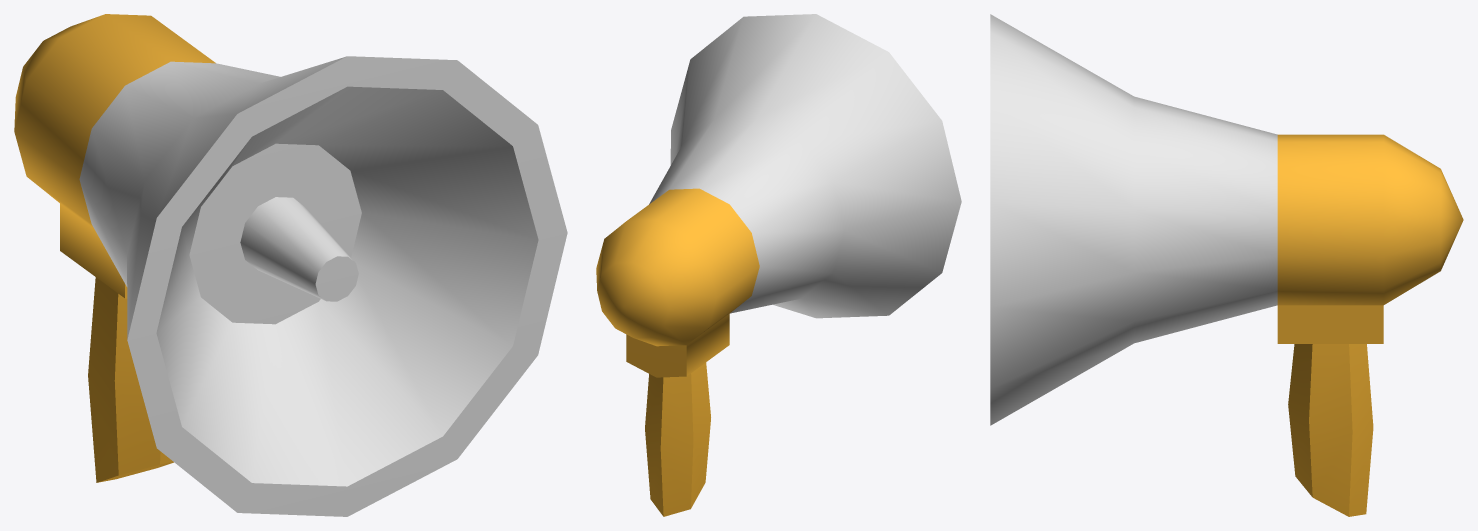
File: Megaphone_A.fbx
3 renders of one model, left to right at view 1: azimuth 30°, elevation 25°; view 2: azimuth 150°, elevation 25°; view 3: azimuth 270°, elevation 25°, orthographic. The views are drawn at different scales.
Visible parts, largest first — view 1: Megaphone_A; view 2: Megaphone_A; view 3: Megaphone_A.
Boxes of the visible parts, <box> form: Megaphone_A: <box>14,14,567,516</box>; Megaphone_A: <box>596,14,961,516</box>; Megaphone_A: <box>990,14,1463,516</box>.
Bounding box in the file's own units: 40.66 × 52.25 × 46.55.
